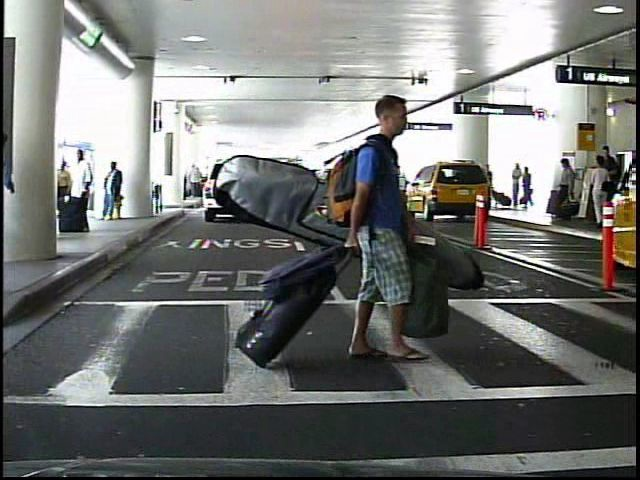person: (329, 86, 432, 374), (68, 146, 96, 236), (583, 155, 609, 229), (101, 161, 128, 227), (553, 157, 577, 225), (596, 143, 613, 222), (509, 162, 523, 209), (519, 163, 530, 207)
